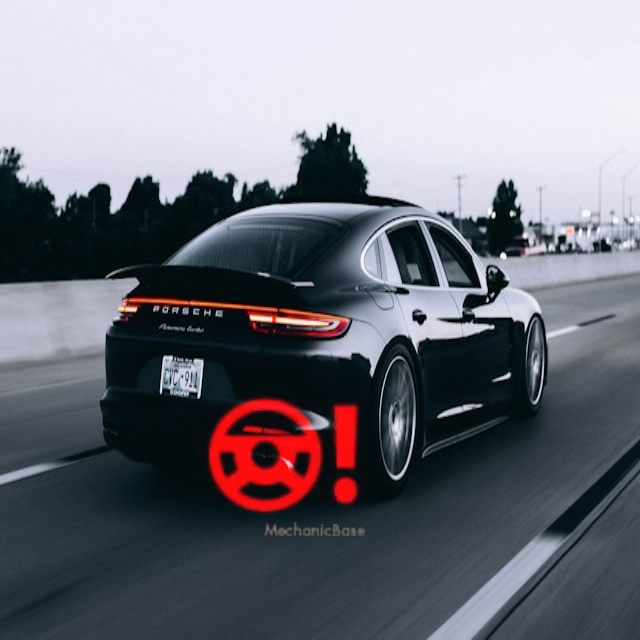symbol: (195, 368, 372, 545)
